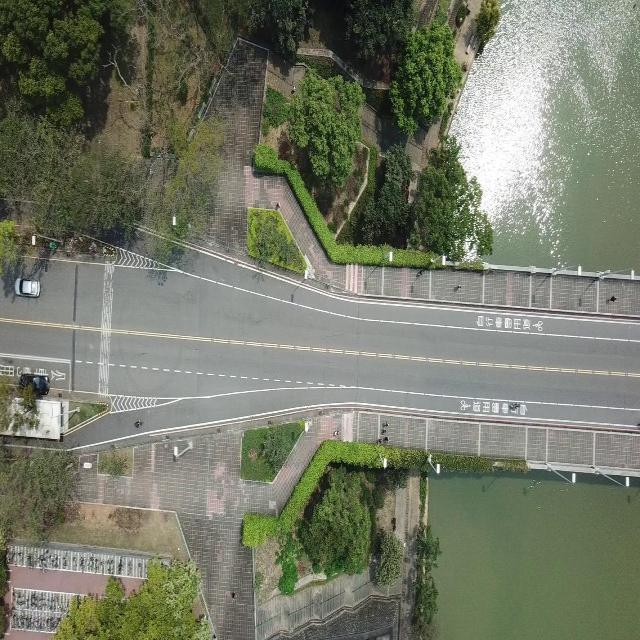bike: (134, 417, 142, 429)
car: (26, 372, 50, 395), (16, 277, 41, 298)
